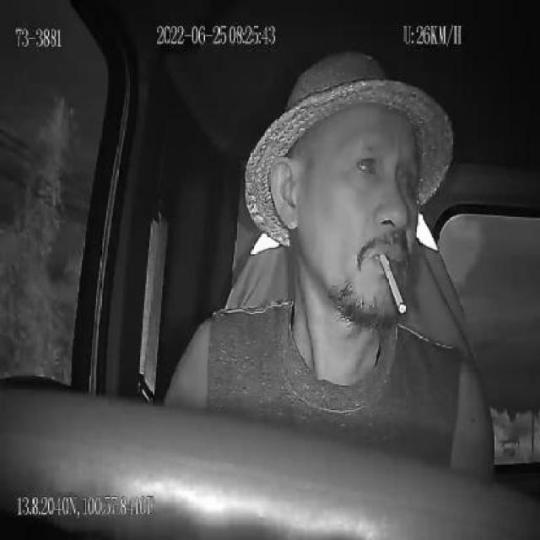smoking: (381, 253, 405, 316)
